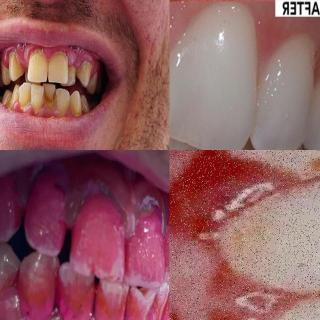Gum Swelling: (170, 150, 302, 320), (0, 44, 99, 79), (13, 100, 75, 120)
calculus: (28, 49, 46, 69), (50, 52, 70, 68), (7, 50, 21, 71), (68, 102, 84, 120), (79, 60, 91, 76), (29, 103, 43, 115), (57, 104, 69, 118), (17, 102, 29, 114), (67, 65, 77, 77)
maligned: (29, 83, 45, 113), (60, 66, 80, 86), (22, 67, 42, 87), (43, 82, 56, 109)
plaque: (70, 198, 126, 276), (26, 177, 72, 251), (128, 214, 164, 288), (16, 264, 58, 320), (52, 270, 98, 320), (0, 175, 20, 237), (91, 286, 127, 320), (121, 294, 153, 320), (144, 291, 167, 320), (164, 214, 170, 278)
stains: (42, 88, 56, 112)
